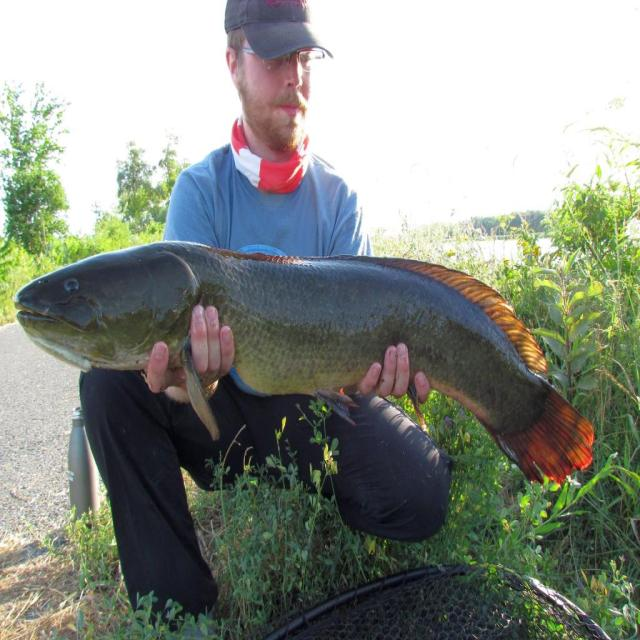Bowfin: (15, 242, 594, 482)
